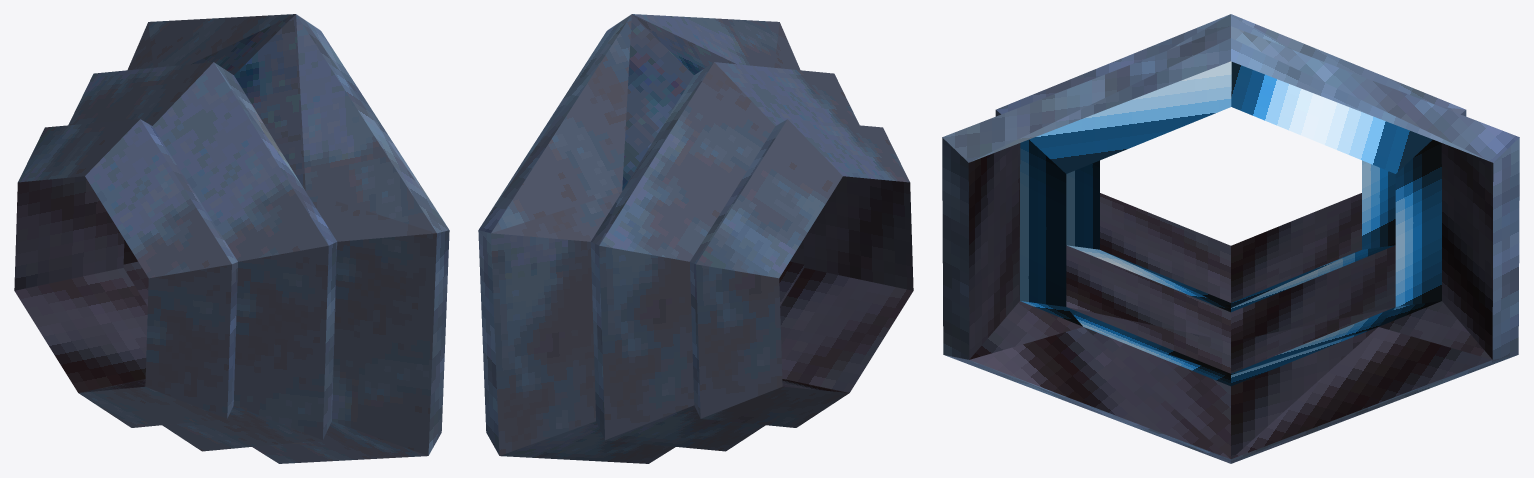
File: jet_upgrade.gltf
The picture shows the model from 3 angles, left to right: view 1: azimuth 30°, elevation 25°; view 2: azimuth 150°, elevation 25°; view 3: azimuth 270°, elevation 25°; orthographic projection.
Visible parts, largest first — view 1: Jet; view 2: Jet; view 3: Jet.
Part boxes in pixels (box(x1,y1,x2,y2)): Jet: box(14, 14, 449, 463); Jet: box(478, 14, 913, 463); Jet: box(942, 14, 1519, 463).
Bounding box in the file's own units: 0.3323 × 0.5828 × 0.6841.
Materials: 4 (4 with a texture image).
